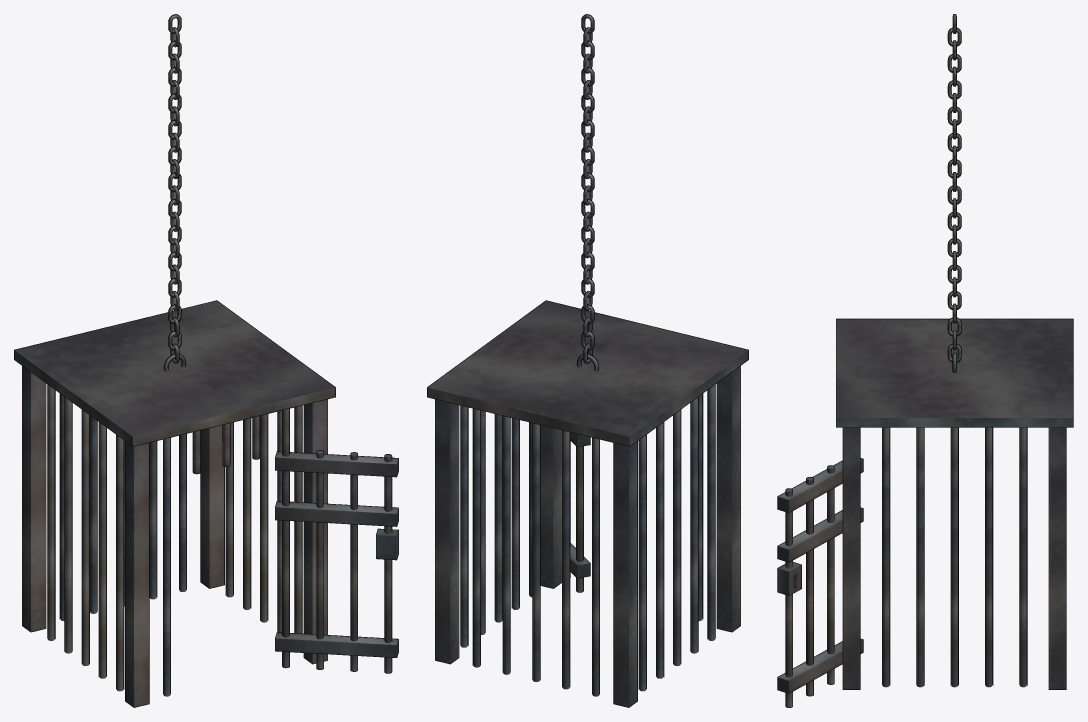
Rendered from Cage_animation.fbx.
The picture shows the model from 3 angles, left to right: view 1: azimuth 30°, elevation 25°; view 2: azimuth 150°, elevation 25°; view 3: azimuth 270°, elevation 25°; orthographic projection.
Parts seen in each view (by area): view 1: Cage_box, Cage_door (×2), Cage_box_outline; view 2: Cage_box, Cage_box_outline, Cage_door; view 3: Cage_box, Cage_door (×2), Cage_box_outline.
Part boxes in pixels (bbox=[...]): Cage_box: bbox=[14, 14, 335, 707]; Cage_door (×2): bbox=[275, 449, 398, 673]; Cage_box_outline: bbox=[14, 14, 335, 707]; Cage_box: bbox=[427, 14, 748, 707]; Cage_box_outline: bbox=[427, 14, 748, 707]; Cage_door: bbox=[570, 432, 589, 591]; Cage_box: bbox=[836, 14, 1072, 689]; Cage_door (×2): bbox=[777, 458, 863, 707]; Cage_box_outline: bbox=[836, 14, 1073, 689].
Size of the model in its own units: 8.15 by 20.18 by 8.63.
